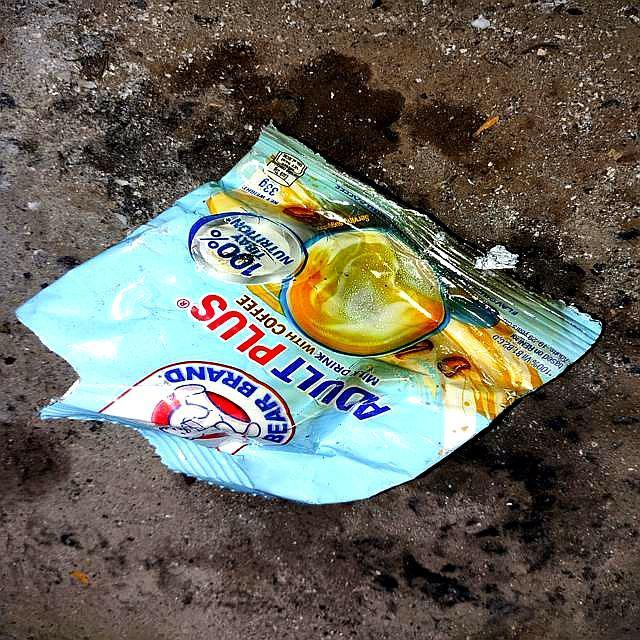Non-biodegradable: (1, 109, 621, 640)
